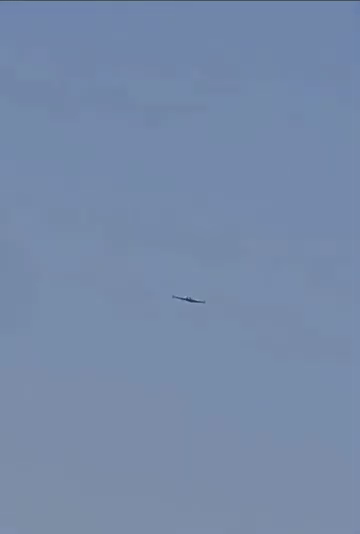shahed: (170, 293, 206, 304)
